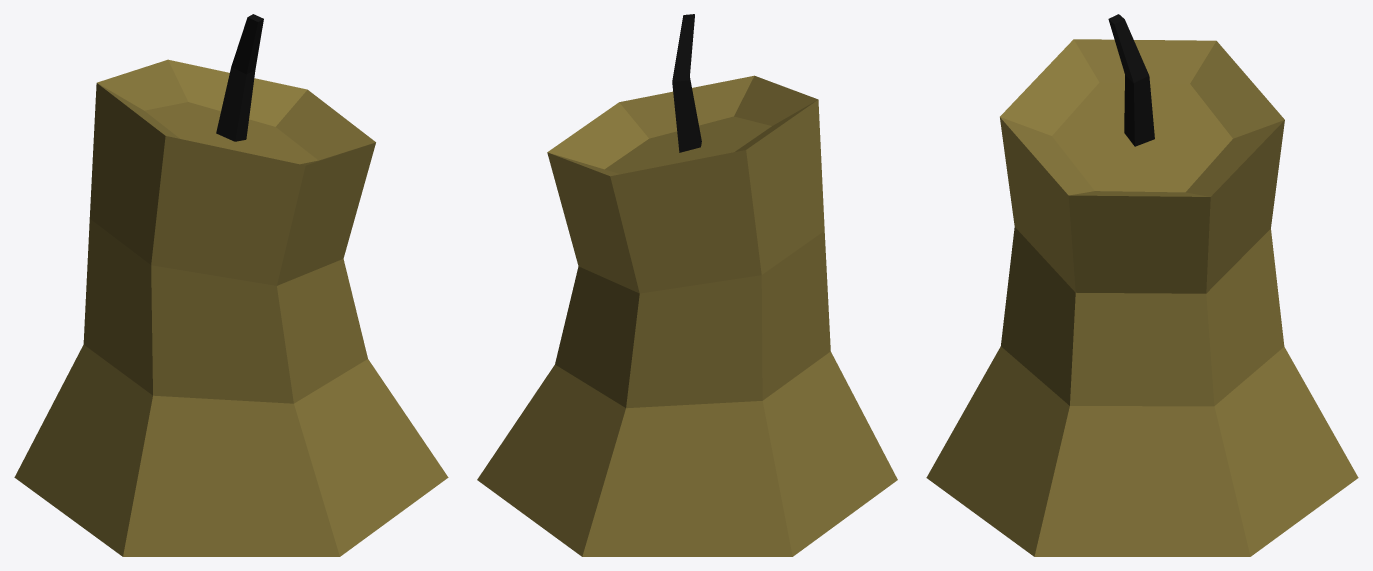
File: candle_2.obj
The picture shows the model from 3 angles, left to right: view 1: azimuth 30°, elevation 25°; view 2: azimuth 150°, elevation 25°; view 3: azimuth 270°, elevation 25°; orthographic projection. The views are drawn at different scales.
Parts seen in each view (by area): view 1: candle_2_Cylinder.005_candleYellow, candle_2_Cylinder.005_darkGrey; view 2: candle_2_Cylinder.005_candleYellow, candle_2_Cylinder.005_darkGrey; view 3: candle_2_Cylinder.005_candleYellow, candle_2_Cylinder.005_darkGrey.
Boxes of the visible parts, left/top/right/bottom form: candle_2_Cylinder.005_candleYellow: left=14, top=59, right=448, bottom=556; candle_2_Cylinder.005_darkGrey: left=216, top=14, right=263, bottom=141; candle_2_Cylinder.005_candleYellow: left=477, top=75, right=897, bottom=556; candle_2_Cylinder.005_darkGrey: left=672, top=14, right=701, bottom=152; candle_2_Cylinder.005_candleYellow: left=926, top=39, right=1358, bottom=556; candle_2_Cylinder.005_darkGrey: left=1108, top=14, right=1154, bottom=146.
Bounding box in the file's own units: 0.1711 × 0.235 × 0.1976.
